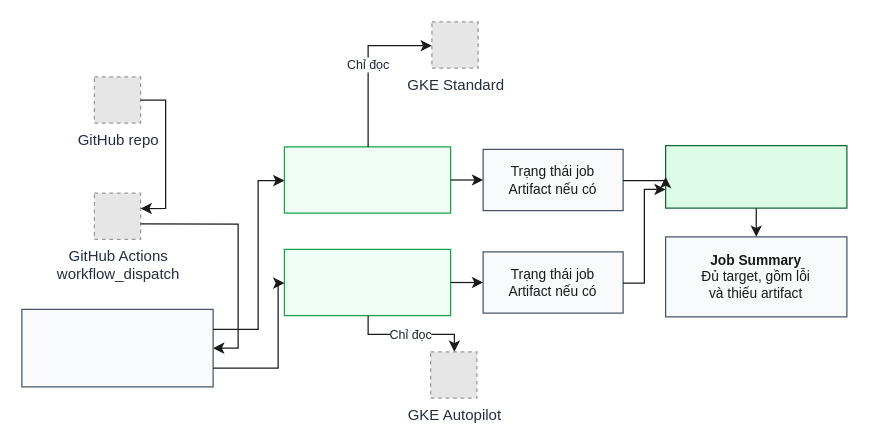
This 869x446 diagram has some shape labels left out. Grey dashed boxes stand in for pictures. The shapes that lost their labels are listed below. From the top down, each one's centre as x and y in pixels, then its label:
point 367,179: Job Standard Runner · Python CLI
point 755,176: Job tổng hợp Chạy cả khi job lỗi
point 367,282: Job Autopilot Runner · Python CLI
point 117,347: Ma trận target Runner: OIDC/WIF Mạng đã duyệt
